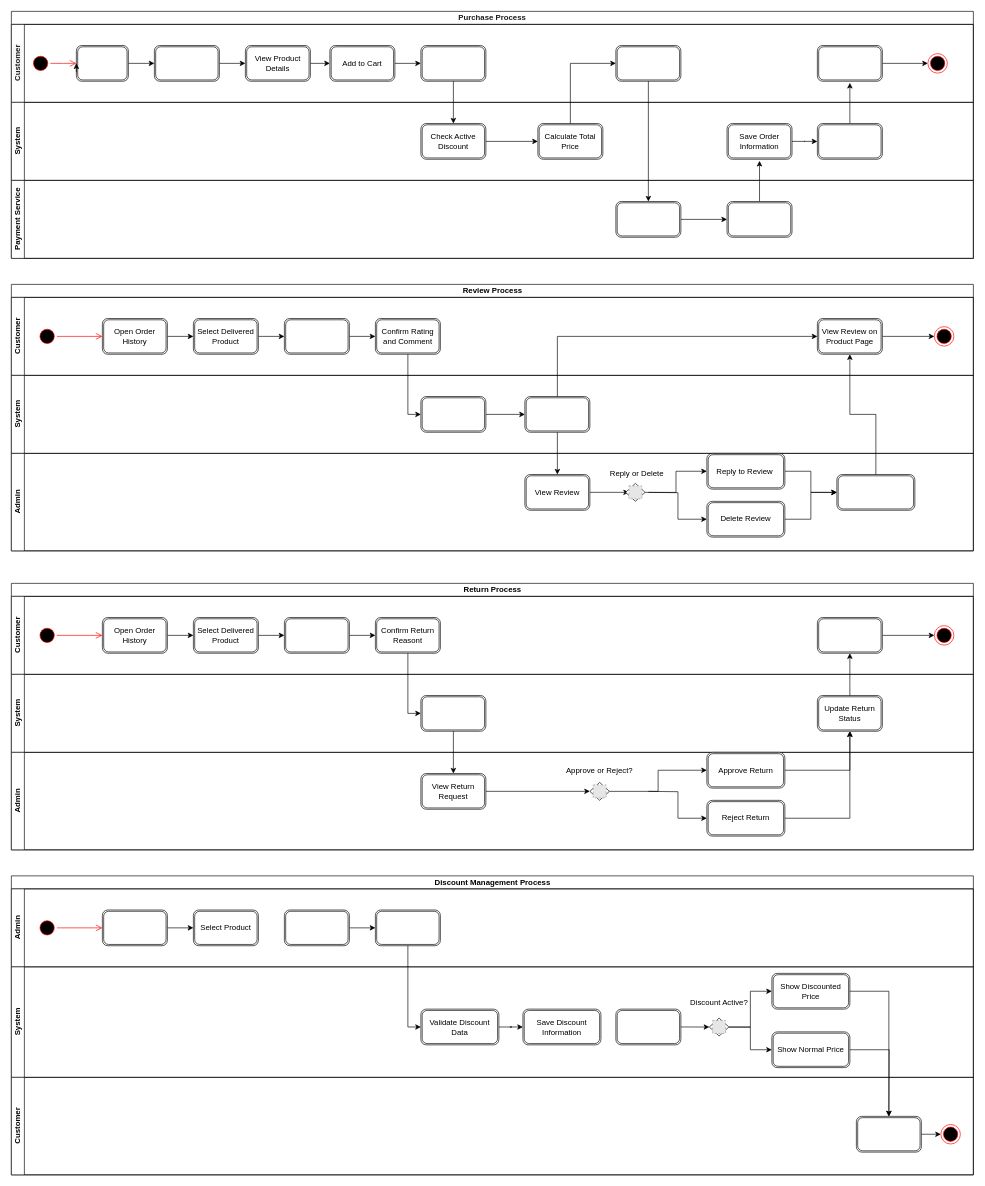
Some shapes in this 985 by 1186 pixel diagram are drawn without their labels. Grey dashed boxes stand in for pictures. Each missing label, with the centre of its shape:
Browse / Search Products: point 186,63
Choose Payment Method: point 648,63
Click Return: point 316,635
Click Write Review: point 316,336
Enter Discount Price: point 316,927
Login / Register: point 102,63
Open Discount Page: point 134,927
Payment Result: point 759,219
Place Order: point 453,63
Process Payment: point 648,219
Purchase Product: point 888,1134
Save Return Request: point 453,713
Save Review: point 557,414
Set Start Time and End Time: point 407,927
Track Order: point 849,63
Update Order Status: point 849,141
Update Review Information: point 875,492
Validate Review Data: point 453,414
View Product: point 648,1026
View Return Result: point 849,635
